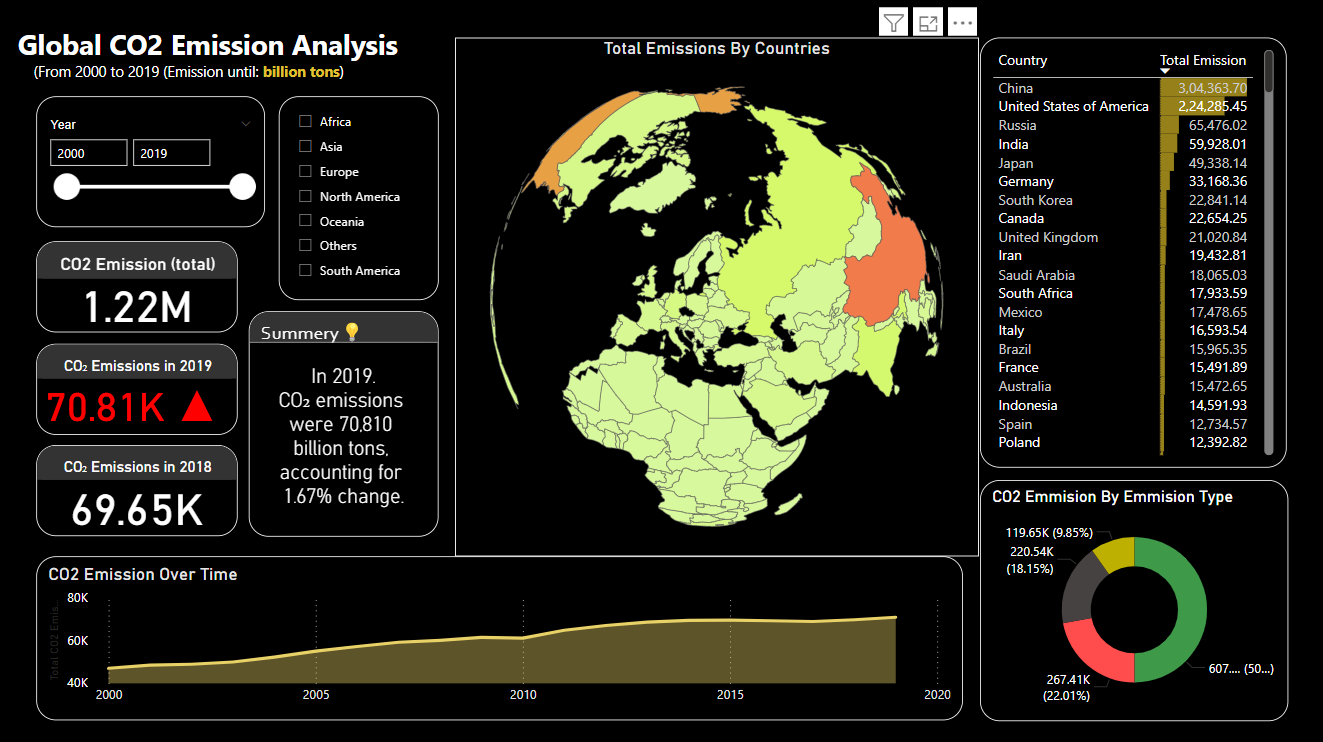

What the dashboard file says about the page in this screenshot:
{"tool":"powerbi","page":{"name":"Dashboard","canvas":[1280,720],"ordinal":0},"visuals":[{"type":"textbox","box":[12.1,1.2,394.5,73.6],"z":0},{"type":"slicer","fields":{"Values":["Global_co2_Emission.year"]},"box":[34.9,92.8,220.5,126.5],"z":1000},{"type":"slicer","fields":{"Values":["Global_co2_Emission.Continent"]},"box":[269,92.9,154.4,176.1],"z":2000},{"type":"card","fields":{"Values":["Measures (3).Selected"]},"box":[35,361.2,194.2,117],"z":3000},{"type":"card","title":"CO₂ Emission (total)","fields":{"Values":["Measures (3).Total Emission"]},"box":[36.2,226.9,194.2,126.7],"z":4000},{"type":"card","fields":{"Values":["Measures (3).One Year Ago"]},"box":[35,485.8,194.2,117],"z":5000},{"type":"shapeMap","title":"Total Emissions By Countries","fields":{"Category":["Global_co2_Emission.Country"],"Value":["Sum(Global_co2_Emission.Total_Emission)"]},"box":[439.1,92.9,505.5,444],"z":6000},{"type":"areaChart","title":"CO₂ Emission Over Time","fields":{"Category":["Global_co2_Emission.year"],"Y":["Measures (3).Total CO2 Emission"]},"box":[240.1,536.9,688.9,158],"z":7000},{"type":"tableEx","fields":{"Values":["Global_co2_Emission.Country","Measures (3).Total Emission"]},"box":[946.5,36.1,295.8,415.5],"z":8000},{"type":"donutChart","title":"CO₂ Emmision By Emmision Type","fields":{"Y":["Sum(Global_co2_Emission.Total_Emission)"],"Category":["Global_co2_Emission.Emission_Type"]},"box":[945.8,463.3,298,232.8],"z":9000},{"type":"card","title":"Summery💡","fields":{"Values":["Measures (3).SummaryText"]},"box":[240.1,283.5,183.4,234],"z":10000},{"type":"ScrollingTextVisual1448795304508","fields":{"Category":["Global_co2_Emission.Continent"],"Measure Absolute":["Sum(Global_co2_Emission.Total_Emission)"],"Measure Deviation":["Measures (3).Emission Percentage"]},"box":[439.1,19.3,489.8,49.5],"z":11000},{"type":"actionButton","title":"Reset Filters ","box":[1108.7,3.6,132.7,27.7],"z":12000},{"type":"textbox","box":[31.4,612.9,199.1,68.8],"z":12001}]}

Visuals, with their boxes in screenshot pixels (x1, y1, x2, y2), scaled from the page's 1280x720 canvas onto the 1323x742 screenshot:
textbox: {"x1": 13, "y1": 1, "x2": 420, "y2": 77}
slicer - Global_co2_Emission.year: {"x1": 36, "y1": 96, "x2": 264, "y2": 226}
slicer - Global_co2_Emission.Continent: {"x1": 278, "y1": 96, "x2": 438, "y2": 277}
card - Measures (3).Selected: {"x1": 36, "y1": 372, "x2": 237, "y2": 493}
"CO₂ Emission (total)" card: {"x1": 37, "y1": 234, "x2": 238, "y2": 364}
card - Measures (3).One Year Ago: {"x1": 36, "y1": 501, "x2": 237, "y2": 621}
"Total Emissions By Countries" shapeMap: {"x1": 454, "y1": 96, "x2": 976, "y2": 553}
"CO₂ Emission Over Time" areaChart: {"x1": 248, "y1": 553, "x2": 960, "y2": 716}
tableEx - Global_co2_Emission.Country x Measures (3).Total Emission: {"x1": 978, "y1": 37, "x2": 1284, "y2": 465}
"CO₂ Emmision By Emmision Type" donutChart: {"x1": 978, "y1": 477, "x2": 1286, "y2": 717}
"Summery💡" card: {"x1": 248, "y1": 292, "x2": 438, "y2": 533}
ScrollingTextVisual1448795304508 - Global_co2_Emission.Continent x Sum(Global_co2_Emission.Total_Emission): {"x1": 454, "y1": 20, "x2": 960, "y2": 71}
"Reset Filters " actionButton: {"x1": 1146, "y1": 4, "x2": 1283, "y2": 32}
textbox: {"x1": 32, "y1": 632, "x2": 238, "y2": 703}
